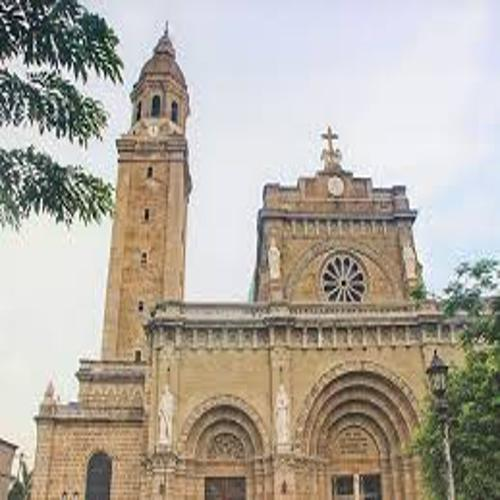Manila Cathedral Church: (27, 14, 489, 491)
